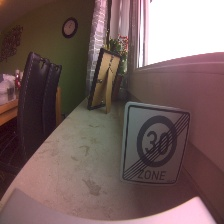dreisiger_zone_ende: (121, 100, 190, 187)
